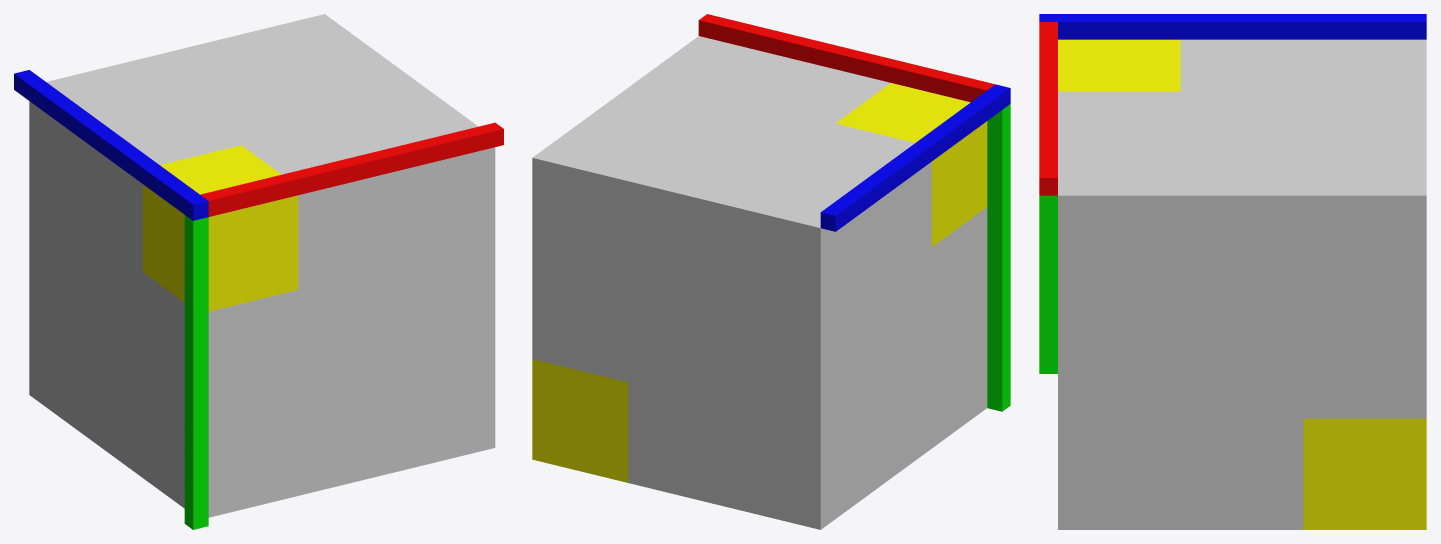
File: all.glb
3 renders of one model, left to right at view 1: azimuth 30°, elevation 25°; view 2: azimuth 150°, elevation 25°; view 3: azimuth 270°, elevation 25°, orthographic. The views are drawn at different scales.
Visible parts, largest first — view 1: Cube.006, Cube.003, Cube.027, Cube.007, Cube.008, Cube.001, Cube.002, Cube.004, Cube.005, Cube.024, Cube.015, 立方體.006 (+10 smaller); view 2: Cube.024, Cube.021, Cube.018, Cube.026, Cube.025, Cube.019, Cube.020, Cube.022, Cube.023, Cube.006, Cube.015, 立方體.006 (+10 smaller); view 3: Cube.017, Cube.026, Cube.008, Cube.014, Cube.023, Cube.020, Cube.011, Cube.002, Cube.005, 立方體, Cube.015, Cube.016 (+6 smaller).
Boxes of the visible parts, x1,y1,x2,y2 form: Cube.006: (143, 145, 298, 311); Cube.003: (143, 272, 298, 414); Cube.027: (143, 375, 298, 517); Cube.007: (242, 121, 396, 289); Cube.008: (340, 97, 495, 265); Cube.001: (298, 369, 396, 495); Cube.002: (397, 345, 495, 471); Cube.004: (298, 266, 396, 392); Cube.005: (397, 242, 495, 368); Cube.024: (29, 62, 184, 230); Cube.015: (86, 103, 240, 271); 立方體.006: (184, 215, 208, 529); Cube.024: (724, 164, 876, 328); Cube.021: (724, 288, 876, 429); Cube.018: (724, 389, 876, 529); Cube.026: (532, 117, 683, 281); Cube.025: (628, 140, 779, 305); Cube.019: (628, 382, 724, 506); Cube.020: (532, 359, 628, 482); Cube.022: (628, 282, 724, 405); Cube.023: (532, 258, 628, 382); Cube.006: (836, 83, 987, 246); Cube.015: (780, 123, 931, 287); 立方體.006: (987, 104, 1010, 411); Cube.017: (1180, 143, 1303, 306); Cube.026: (1303, 143, 1426, 306); Cube.008: (1058, 143, 1180, 306); Cube.014: (1180, 307, 1303, 418); Cube.023: (1303, 307, 1426, 418); Cube.020: (1303, 418, 1426, 529); Cube.011: (1180, 418, 1303, 529); Cube.002: (1058, 418, 1180, 529); Cube.005: (1058, 307, 1180, 418); 立方體: (1039, 14, 1426, 39); Cube.015: (1180, 39, 1303, 91); Cube.016: (1180, 91, 1303, 143).
Size of the model in its own units: 0.6313 by 0.6315 by 0.6303.
